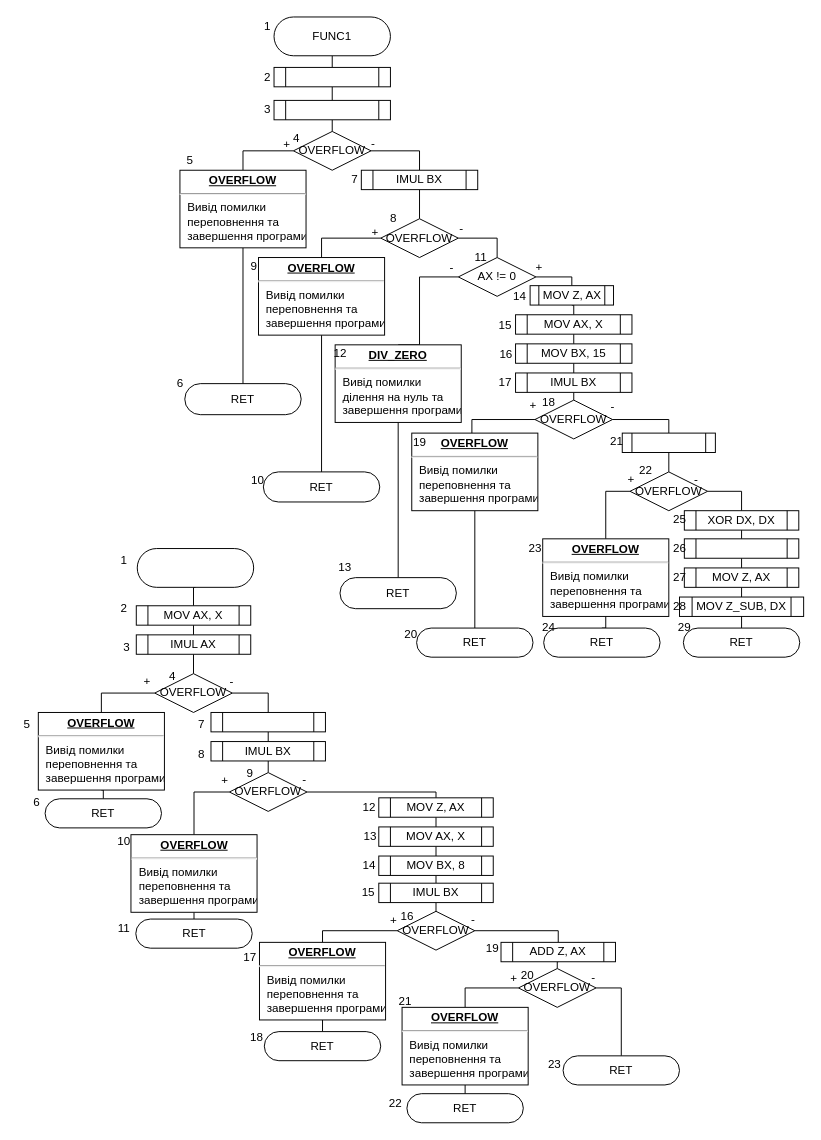
This 821x1140 diagram has some shape labels left out. The shapes that lost their labels are listed below. From the top down, each one's centre as x and y in pixels, then its label:
the point at 331,76: MOV BX, Y
the point at 331,109: SUB AX, BX
the point at 668,442: SUB AX, 1
the point at 195,567: FUNC2
the point at 741,548: IDIV Z
the point at 267,721: MOV BX, 35
